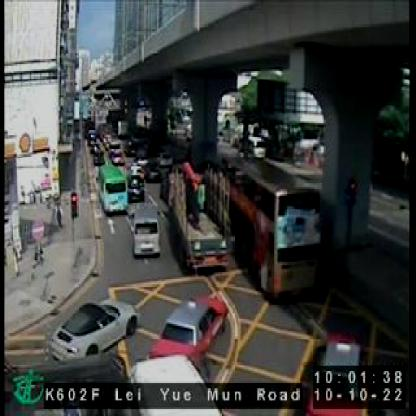Bus: (228, 162, 318, 298)
Car: (50, 299, 141, 365), (150, 296, 230, 364), (132, 211, 162, 259), (130, 172, 144, 195), (109, 141, 123, 163), (147, 164, 160, 180), (162, 150, 173, 164), (93, 150, 103, 164)
Minibus: (101, 164, 130, 215)
Truck: (166, 158, 229, 266)
